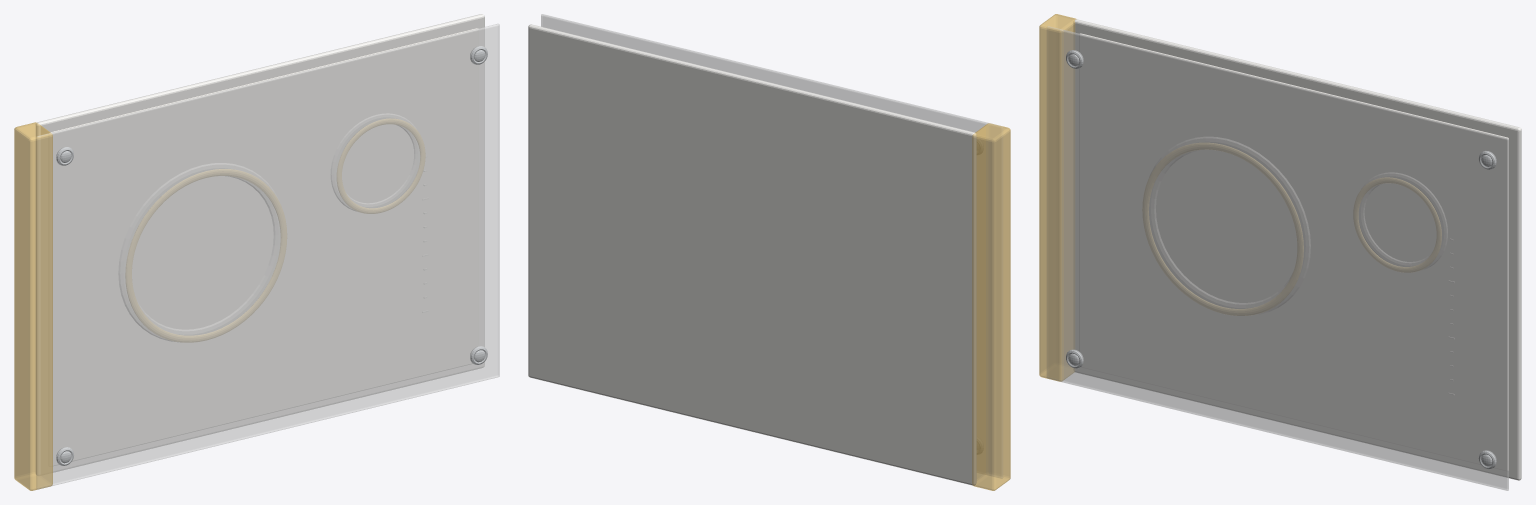
The model's file is archive-cassette.glb.
The picture shows the model from 3 angles, left to right: view 1: azimuth 30°, elevation 25°; view 2: azimuth 150°, elevation 25°; view 3: azimuth 330°, elevation 25°; orthographic projection.
Parts seen in each view (by area): view 1: 02_FrontCover, 05_CoreInsert, 06_BackSpine, 04_OpticalCore, 03_RingBands, 01_Fasteners; view 2: 06_BackSpine, 02_FrontCover; view 3: 02_FrontCover, 05_CoreInsert, 06_BackSpine, 04_OpticalCore, 03_RingBands, 01_Fasteners.
Boxes of the visible parts, x1,y1,x2,y2 form: 02_FrontCover: (36,24,499,489); 05_CoreInsert: (50,28,478,465); 06_BackSpine: (14,14,484,490); 04_OpticalCore: (118,113,428,341); 03_RingBands: (125,118,425,342); 01_Fasteners: (56,46,487,465); 06_BackSpine: (528,24,1010,490); 02_FrontCover: (541,14,1002,478); 02_FrontCover: (1047,26,1508,490); 05_CoreInsert: (1079,33,1508,470); 06_BackSpine: (1039,14,1521,480); 04_OpticalCore: (1149,137,1454,395); 03_RingBands: (1142,143,1441,315); 01_Fasteners: (1066,50,1496,469).
Size of the model in its own units: 3.15 by 2.26 by 0.2086.
